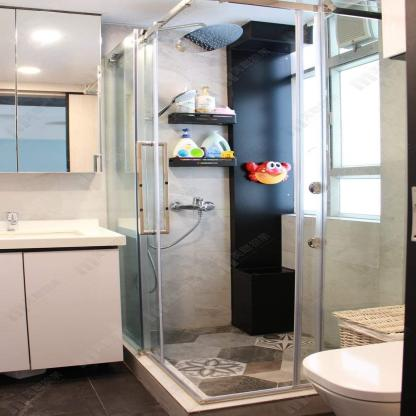Exhaust Fan: (333, 15, 375, 49)
Toilet: (302, 339, 405, 416)
Toilet Sink: (0, 219, 129, 250)
Water Cubicle: (103, 0, 403, 416)
